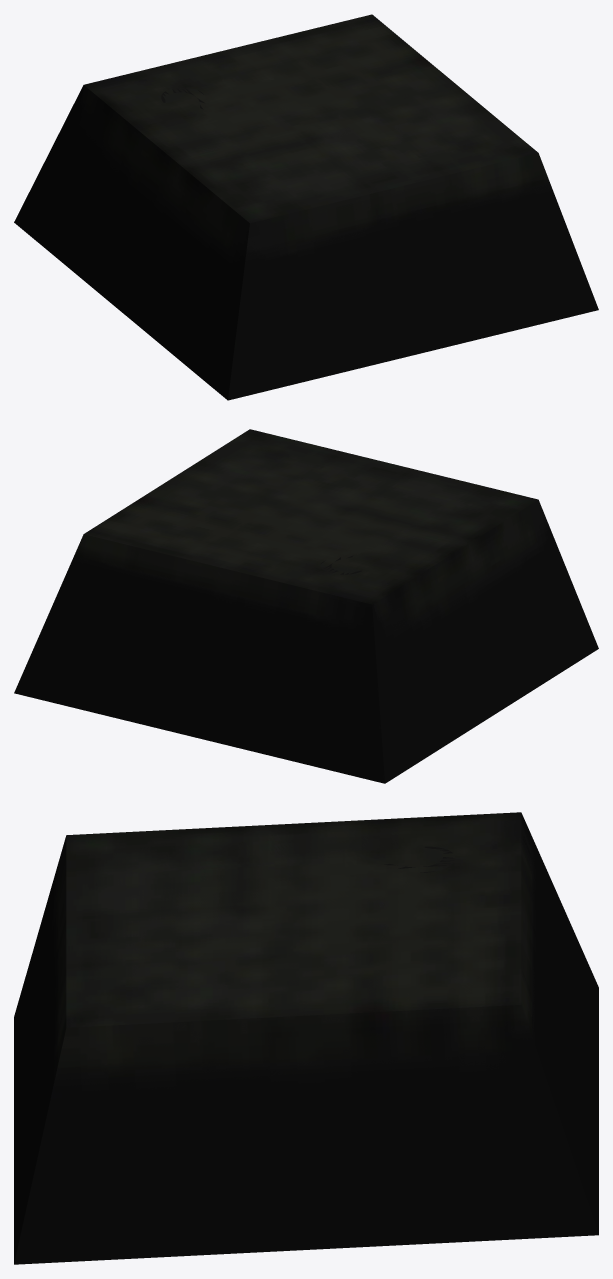
Rendered from link_63__key-69.glb.
3 views of the same model, one above another, from view 1: azimuth 30°, elevation 25°; view 2: azimuth 150°, elevation 25°; view 3: azimuth 270°, elevation 25° (orthographic). The views are drawn at different scales.
Visible parts, largest first — view 1: geometry_0; view 2: geometry_0; view 3: geometry_0.
Boxes of the visible parts, bbox=[...] form: geometry_0: bbox=[14, 14, 598, 400]; geometry_0: bbox=[14, 429, 598, 783]; geometry_0: bbox=[14, 812, 598, 1264].
Size of the model in its own units: 0.0719 by 0.0315 by 0.0718.
1 material, 1 textured.
